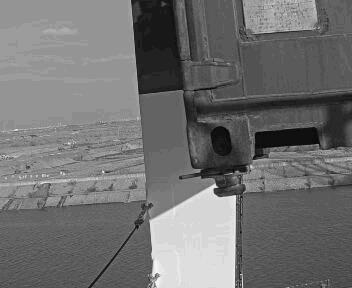twist_lock_1: (157, 164, 221, 206)
